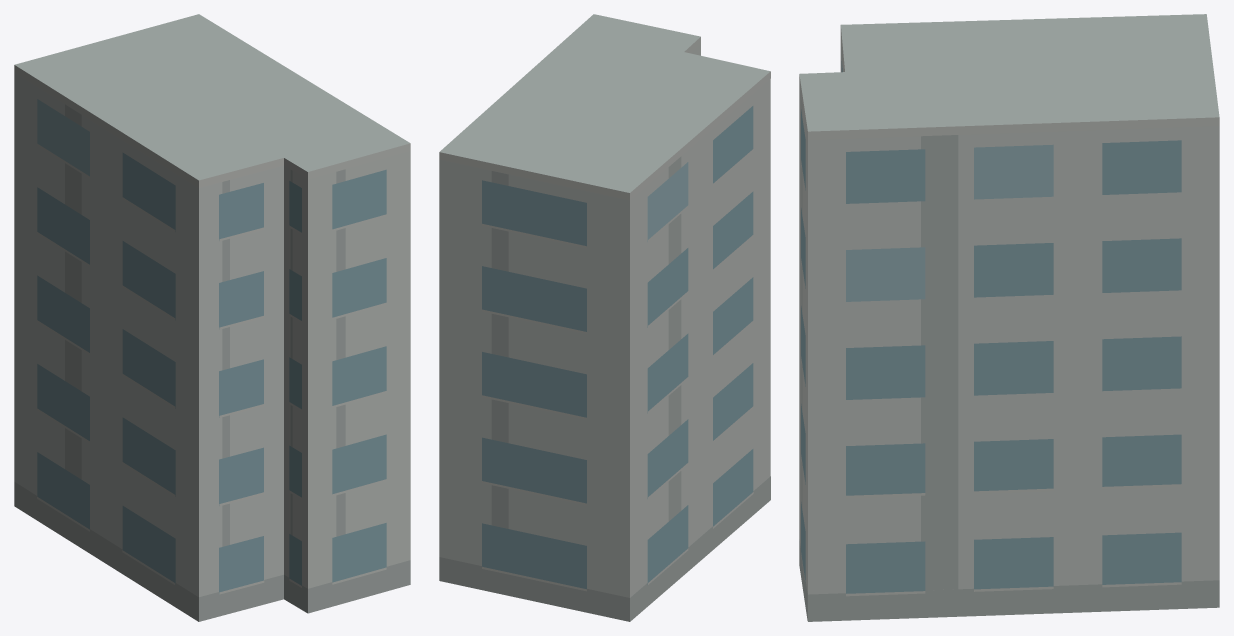
Rendered from survey-upis-32702903.glb.
3 renders of one model, left to right at view 1: azimuth 30°, elevation 25°; view 2: azimuth 150°, elevation 25°; view 3: azimuth 270°, elevation 25°, orthographic. The views are drawn at different scales.
Parts seen in each view (by area): view 1: survey-upis-32702903.tmp; view 2: survey-upis-32702903.tmp; view 3: survey-upis-32702903.tmp.
Part boxes in pixels (<box>): survey-upis-32702903.tmp: <box>14,14,410,621</box>; survey-upis-32702903.tmp: <box>439,14,770,621</box>; survey-upis-32702903.tmp: <box>799,14,1219,621</box>.
Size of the model in its own units: 7.18 by 13.95 by 10.85.
